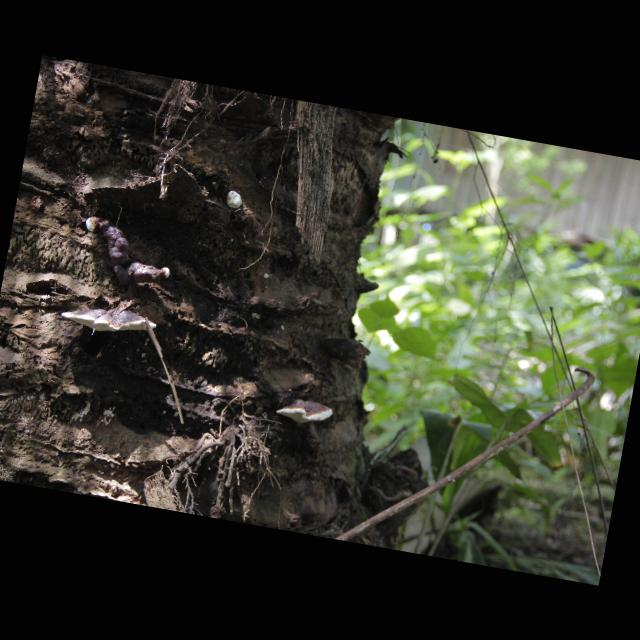ganoderma: (93, 220, 169, 292), (60, 298, 159, 342), (275, 395, 336, 431)
primordium: (225, 190, 245, 211), (85, 216, 104, 235), (161, 267, 172, 280), (264, 274, 270, 281)
